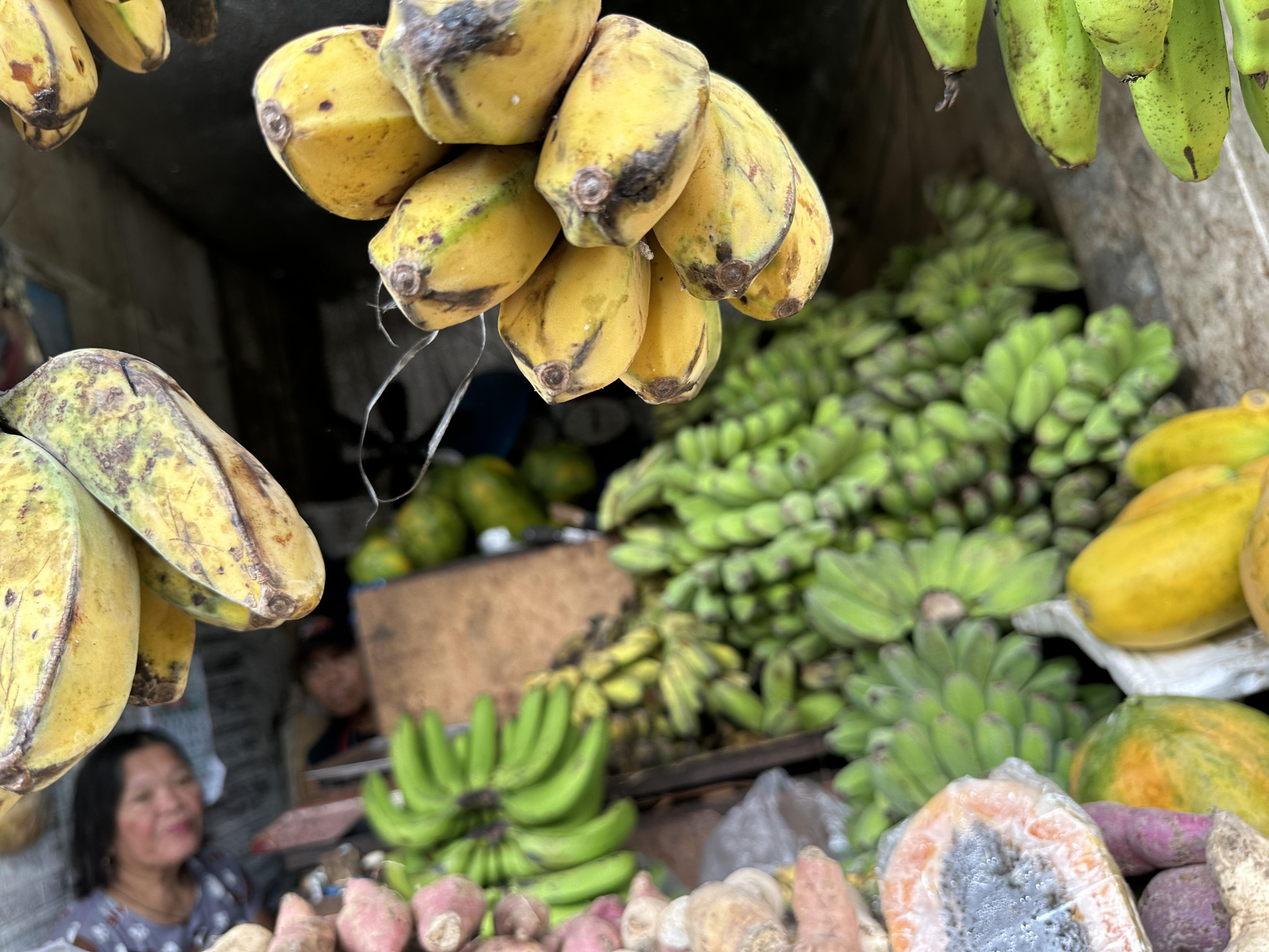ripe: (0, 0, 169, 152)
underripe: (253, 0, 834, 406), (0, 345, 325, 800)
